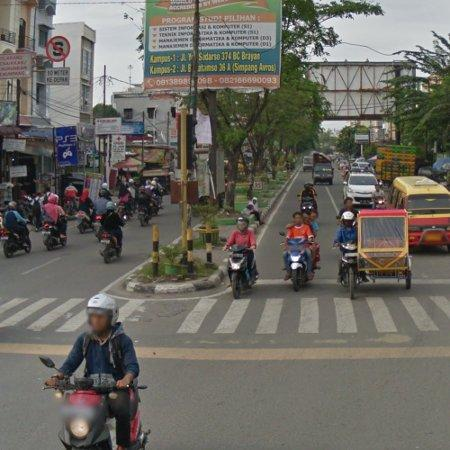crosswalks: (176, 289, 450, 335)
